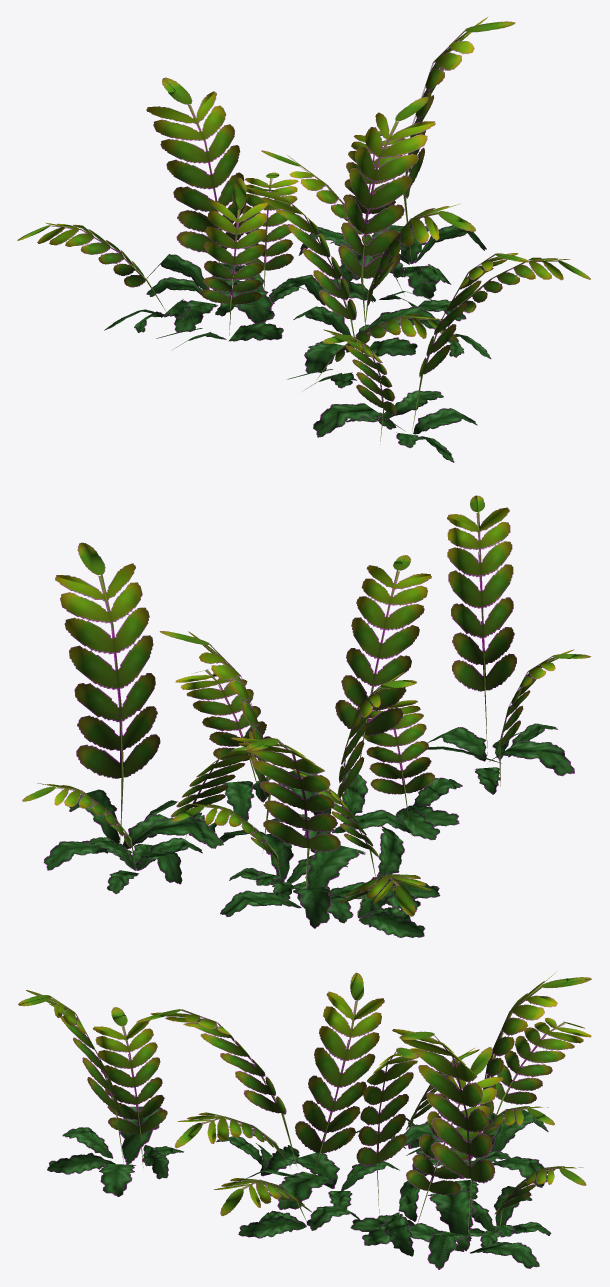
The model's file is n_SWFgogra04a.glb.
The picture shows the model from 3 angles, top to bottom: view 1: azimuth 30°, elevation 25°; view 2: azimuth 150°, elevation 25°; view 3: azimuth 270°, elevation 25°; orthographic projection. The views are drawn at different scales.
Parts seen in each view (by area): view 1: n_SWFgogra04a; view 2: n_SWFgogra04a; view 3: n_SWFgogra04a.
Boxes of the visible parts, box(x1,y1,x2,y2) form: n_SWFgogra04a: box(17, 17, 590, 462); n_SWFgogra04a: box(22, 495, 590, 937); n_SWFgogra04a: box(18, 972, 591, 1269).
Size of the model in its own units: 1.55 by 0.9639 by 1.9.
4 materials, 4 textured.
